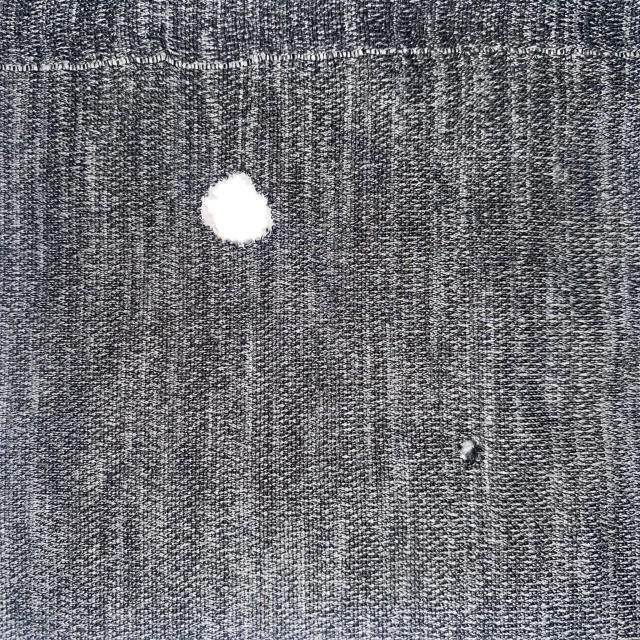Hole: (191, 164, 282, 244)
Knot: (453, 437, 485, 464)
Line: (0, 41, 640, 76)
